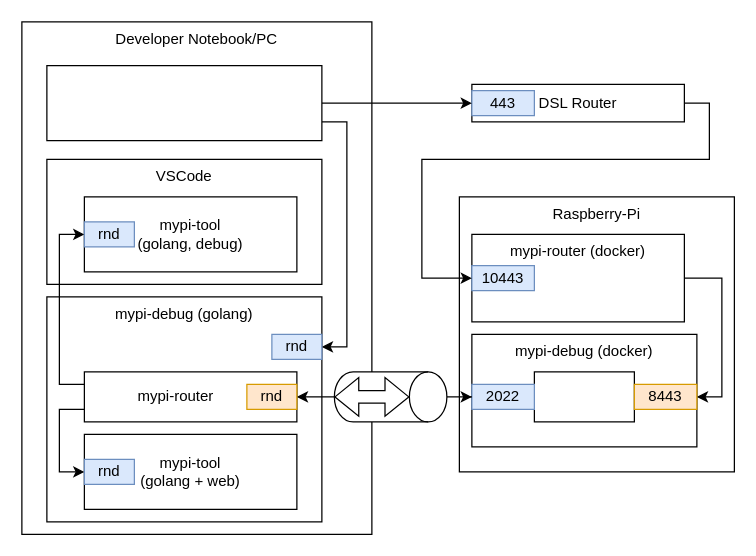
Some shapes in this 756 by 556 pixel diagram are drawn without their labels. Here are the shapes that lost their labels. From the top down, the centre of each, then its label:
At point 184,102: "Browser".
At point 583,396: "sshd".
